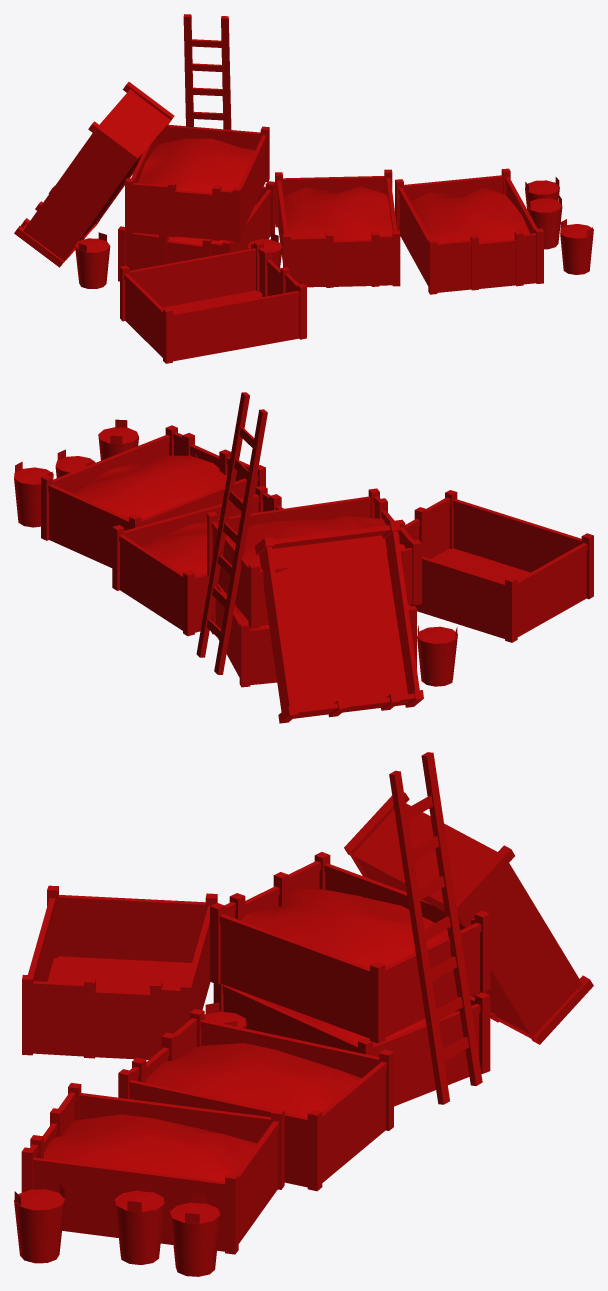
File: banana_boxes.glb
3 renders of one model, top to bottom at view 1: azimuth 30°, elevation 25°; view 2: azimuth 150°, elevation 25°; view 3: azimuth 270°, elevation 25°, orthographic. The views are drawn at different scales.
Visible parts, largest first — view 1: MODEL_banana_boxes; view 2: MODEL_banana_boxes; view 3: MODEL_banana_boxes.
Boxes of the visible parts, x1=… form: MODEL_banana_boxes: x1=14, y1=14, x2=593, y2=363; MODEL_banana_boxes: x1=14, y1=392, x2=593, y2=723; MODEL_banana_boxes: x1=14, y1=752, x2=593, y2=1276.
Bounding box in the file's own units: 0.9784 × 0.4732 × 0.7575.
